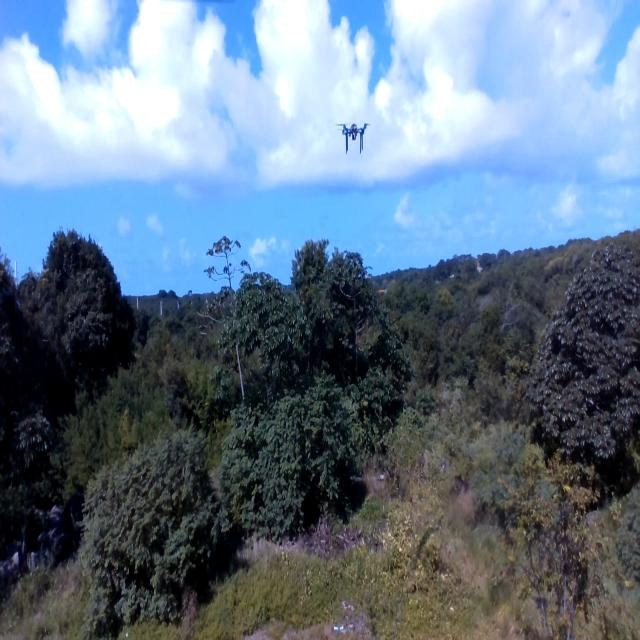-uav-: (331, 110, 377, 162)
